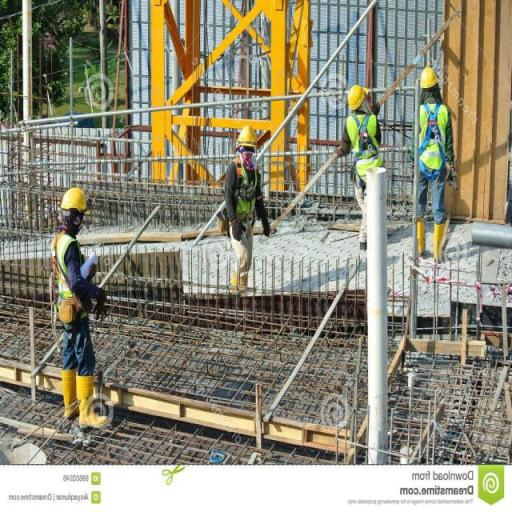helmet: (60, 184, 90, 212), (346, 82, 369, 108), (236, 122, 258, 148), (420, 64, 438, 88), (297, 112, 308, 126)
vest: (52, 229, 85, 322), (345, 111, 383, 177), (418, 99, 450, 170), (230, 158, 259, 220)
